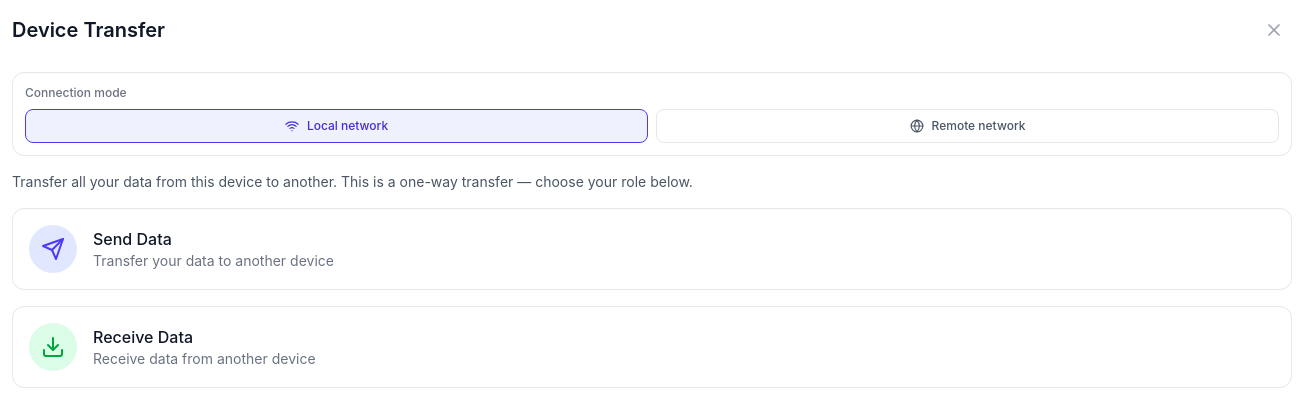
Test: DeviceTransferFlow › Sender flow › shows error state when offer creation fails
Click the text "Send Data" at coordinates (132, 239), box [93,229,172,249]
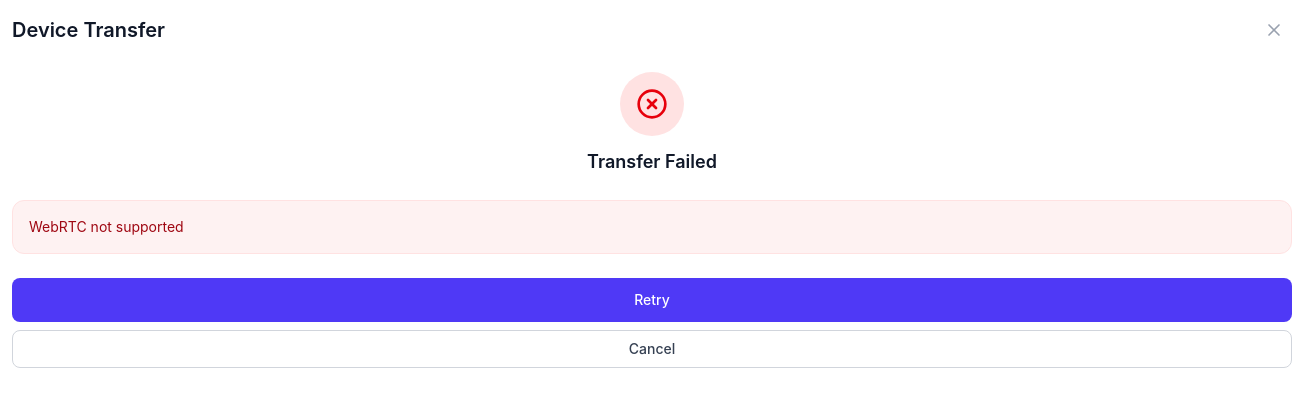
Now the heading "Transfer Failed" is shown, box [587,148,717,176]
Now the text "WebRTC not supported" is shown, box [29,218,184,235]
Now the button "Retry" is shown, box [12,278,1292,322]
